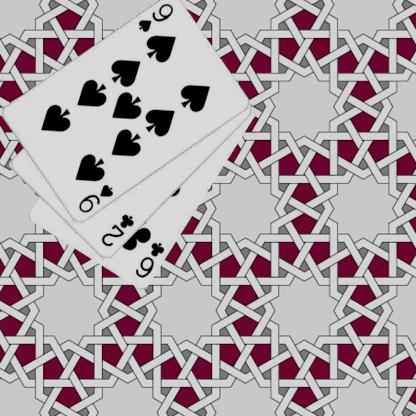2C: (98, 212, 136, 249)
6C: (133, 240, 166, 280)
9S: (75, 181, 115, 214), (135, 1, 175, 34)
